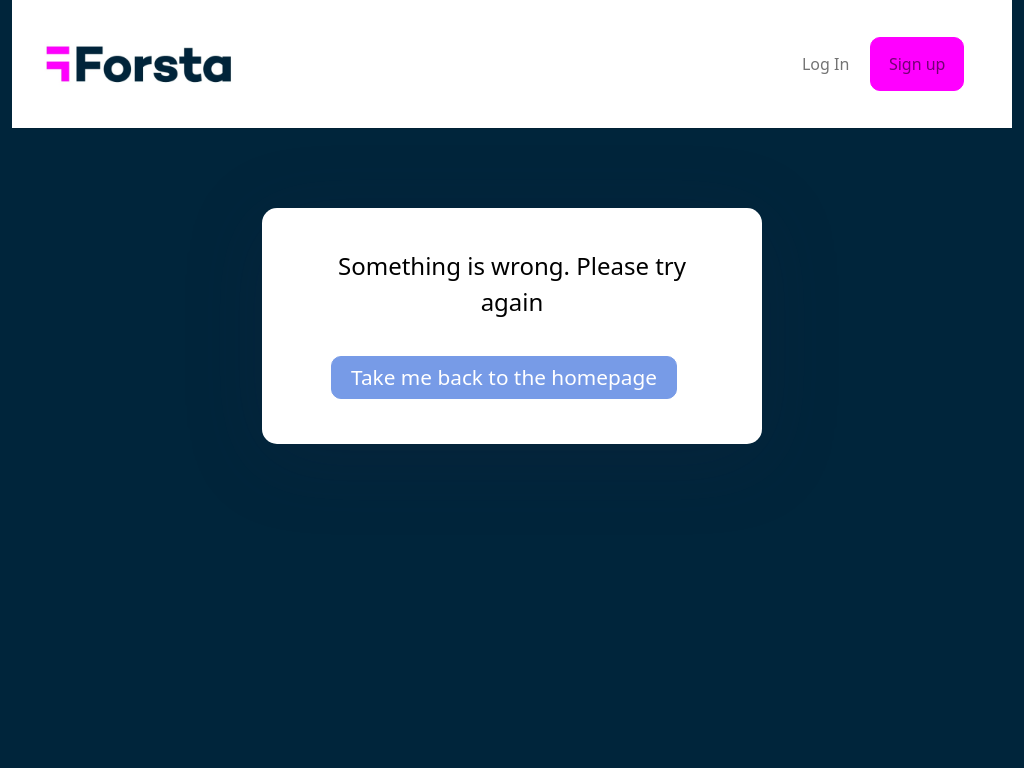
Scenario: App when !isAuthenticated › redirects to login page on LogIn button click
Click the link "Log In" at (826, 64), box [802,53,849,75]
(page scrolled)
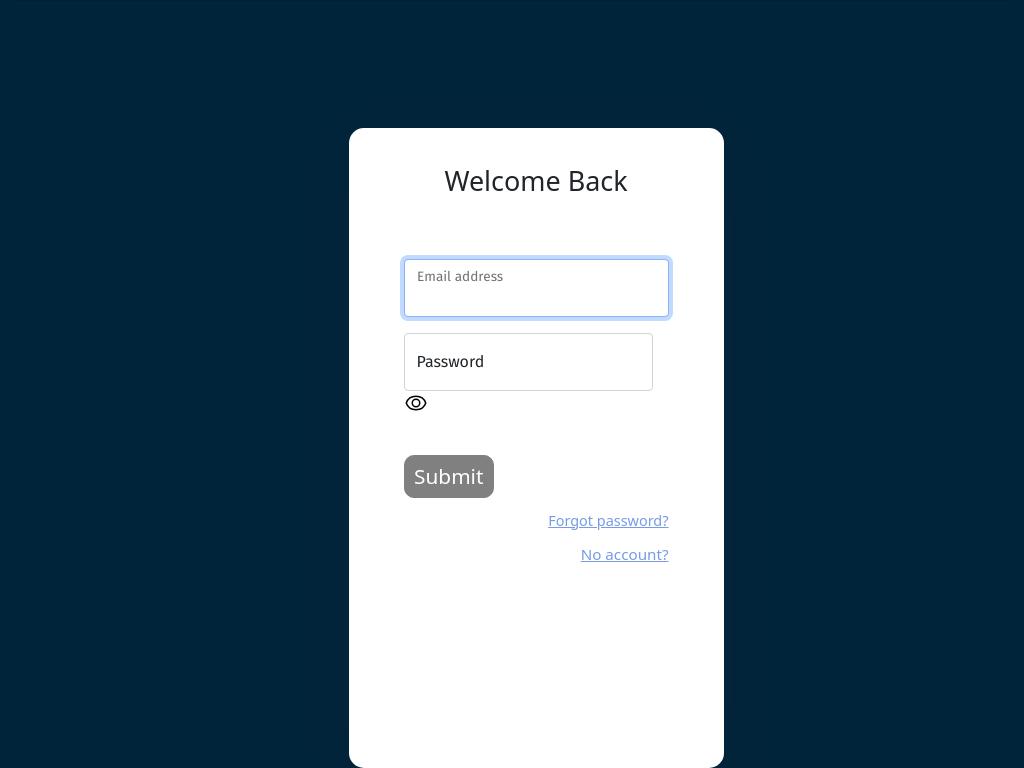
Now the element with test id "loginForm" is shown, box [348,128,724,767]
